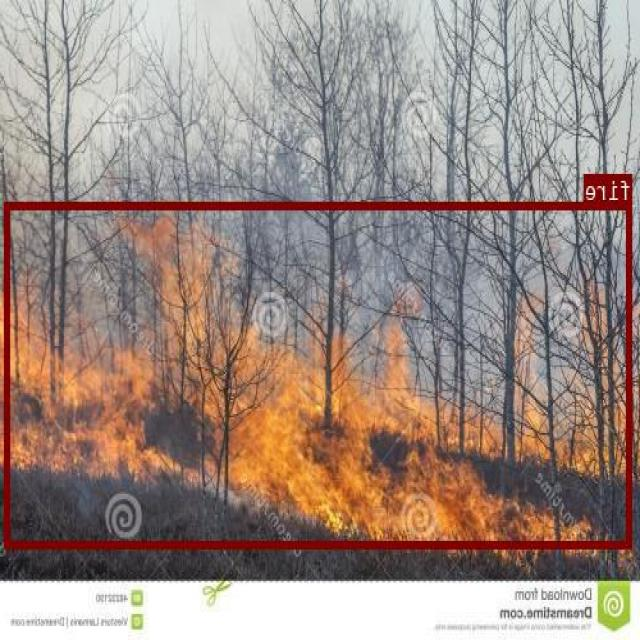fire: (5, 200, 632, 547)
